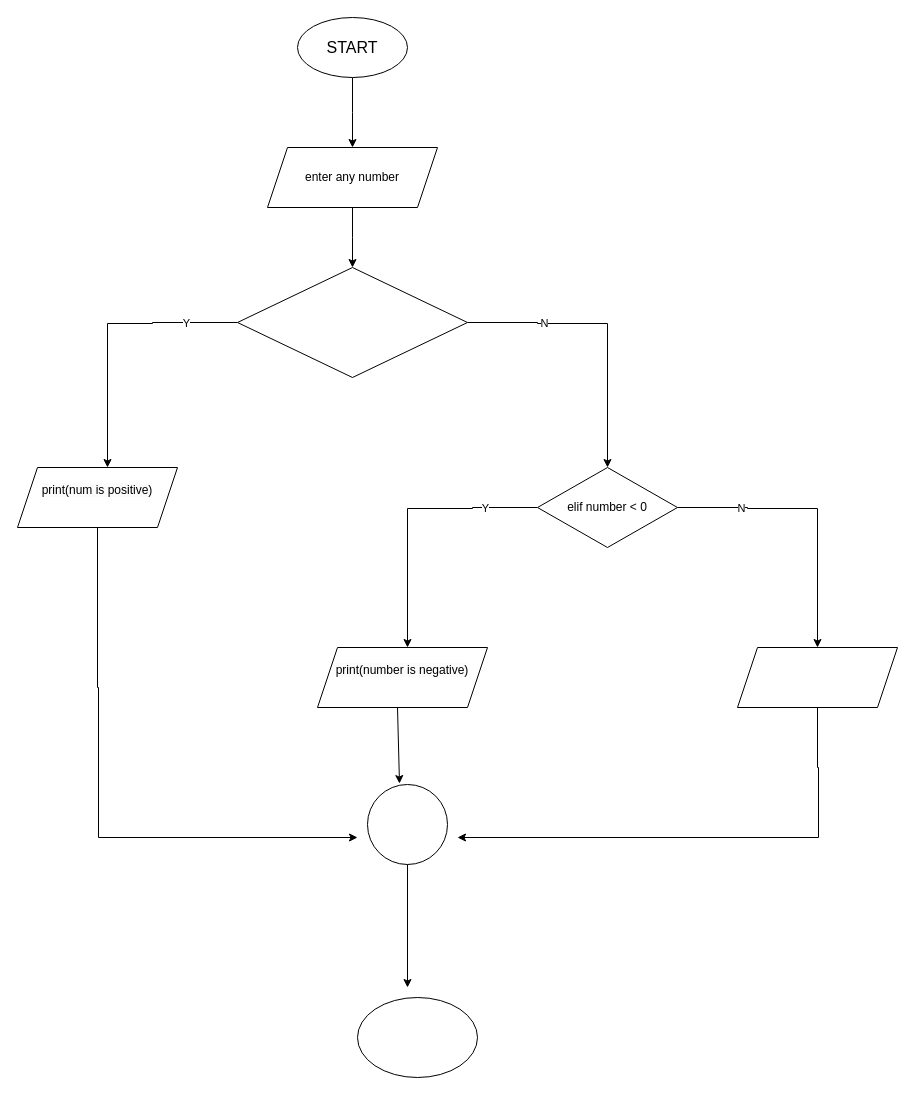
This 915x1095 diagram has some shape labels left out. Here are the shapes that lost their labels. From the top down, the centre of each, then its label:
At pixel 352 322: "if number > 0".
At pixel 817 677: "print (zero)".
At pixel 417 1037: "STOP".
